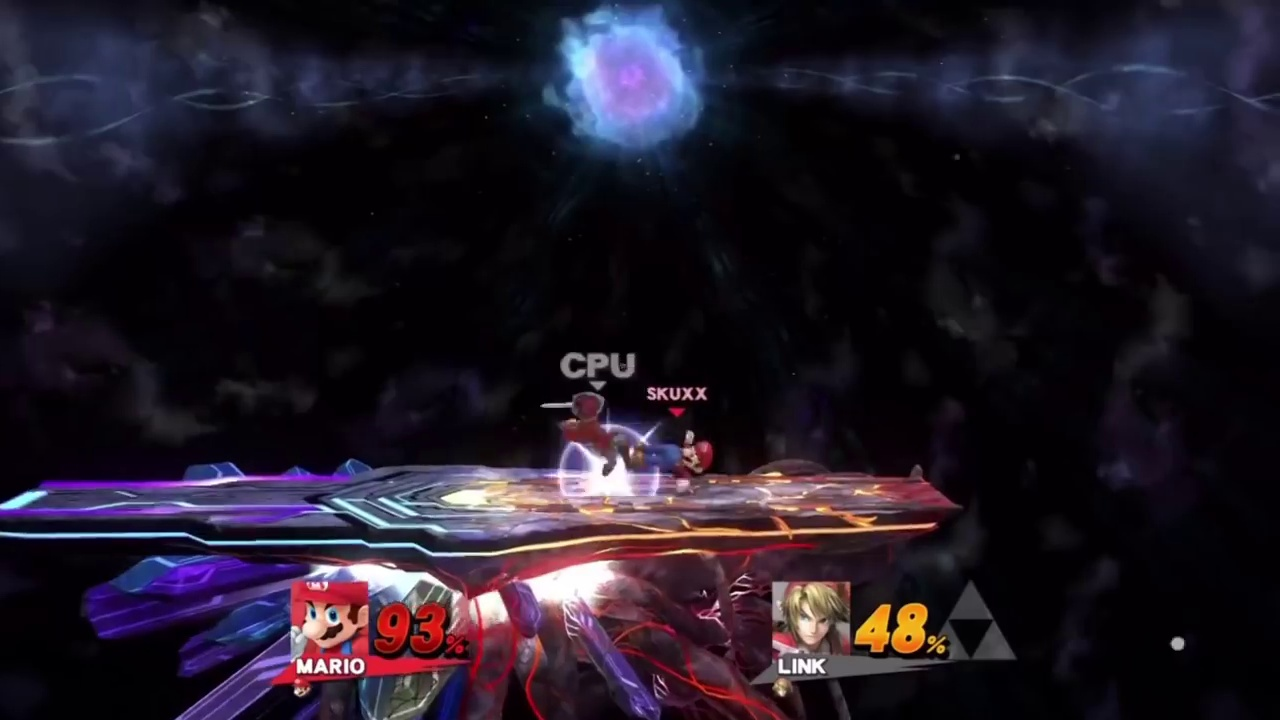Mario: (626, 430, 713, 488)
